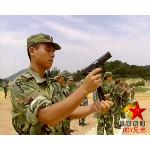Pistol: (81, 52, 112, 88)
